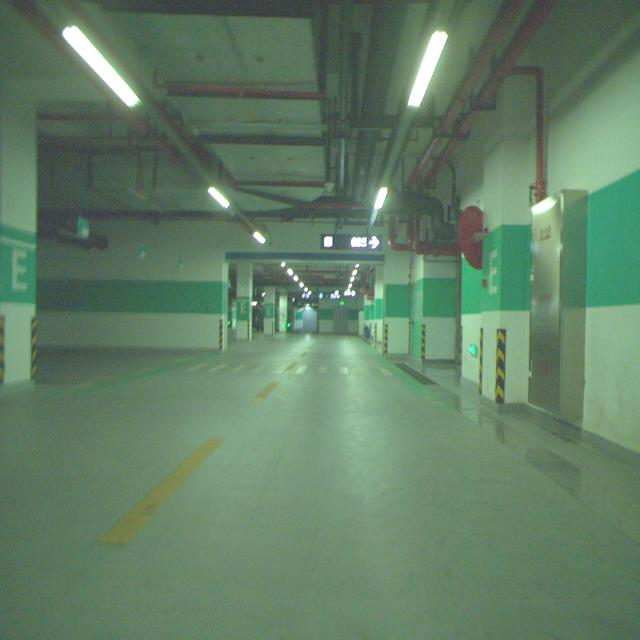pillar: (236, 262, 252, 340)
wall: (479, 142, 529, 412)
